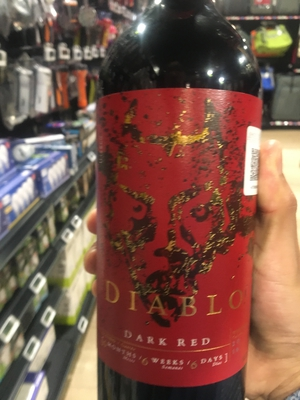diablo dark red: (88, 18, 265, 400)
